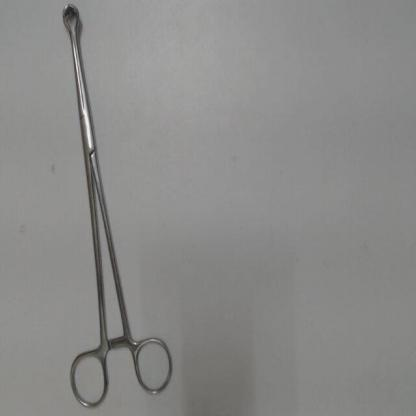8 Babcock Tissue Forceps: (57, 1, 176, 414)
